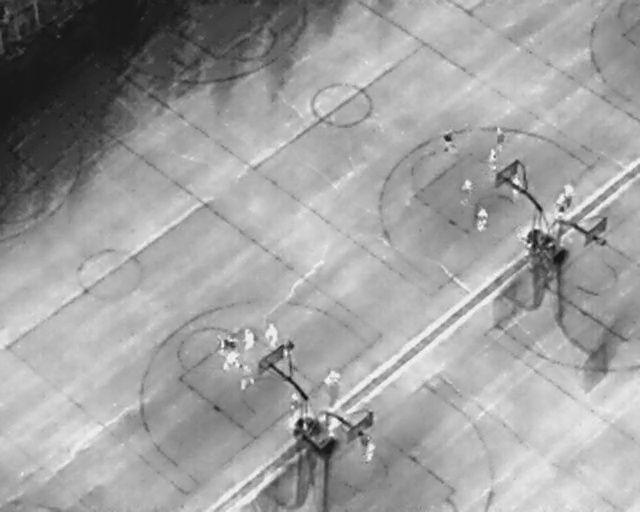Person: (223, 350, 239, 372), (327, 367, 340, 391), (241, 362, 253, 388), (243, 327, 255, 352), (477, 205, 488, 231), (266, 324, 277, 348), (365, 438, 376, 462), (511, 175, 522, 198), (496, 124, 505, 152), (563, 183, 574, 205), (462, 177, 473, 197), (444, 127, 453, 151), (557, 191, 566, 215), (289, 391, 298, 414), (488, 148, 497, 170), (215, 335, 225, 353)
